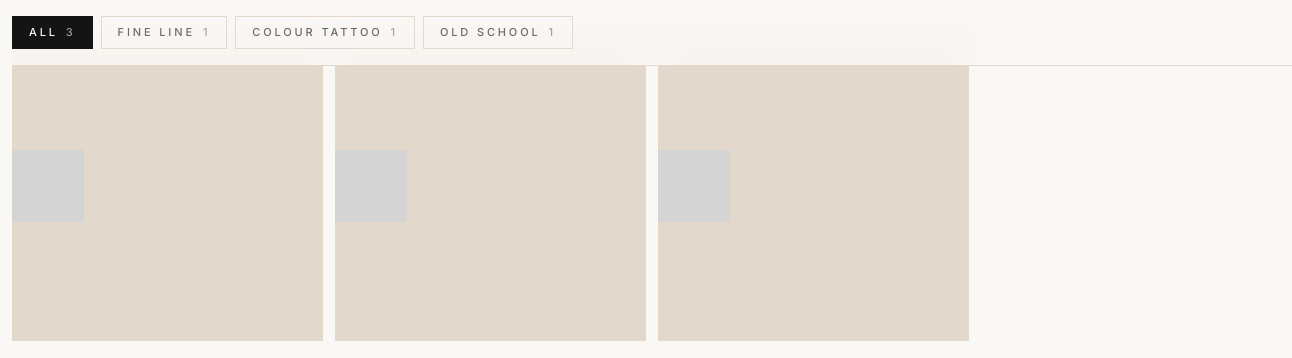
Scenario: GalleryGrid › shows all images when All tab is clicked after filtering
Click the button "Fine Line 1": (164, 32) [101,16,227,49]
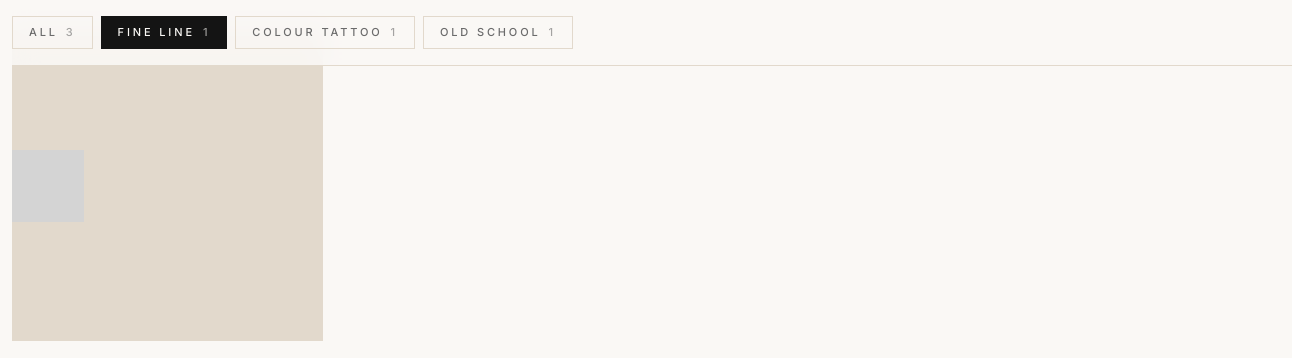
Click the button "All 3": (52, 32) [12,16,93,49]
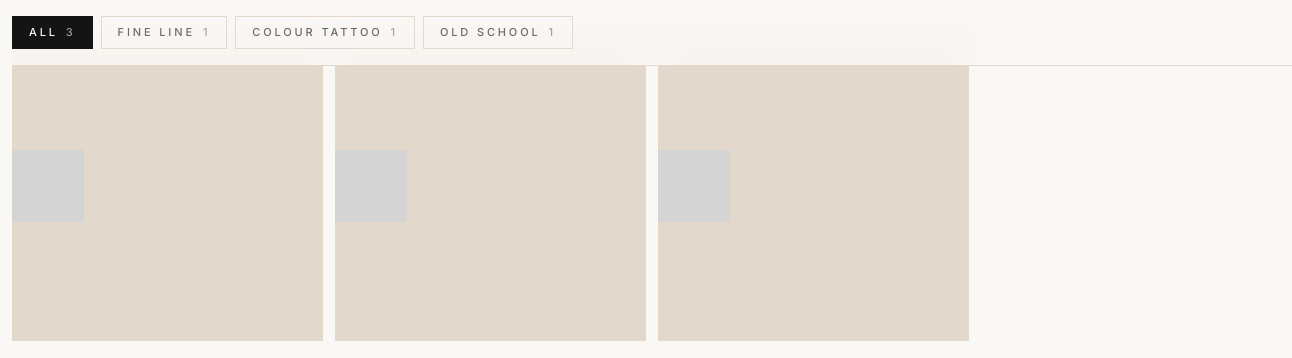
Result: the number of buttons named "view" is 3 at [12,30,323,341]; [335,30,646,341]; [658,30,969,341]
